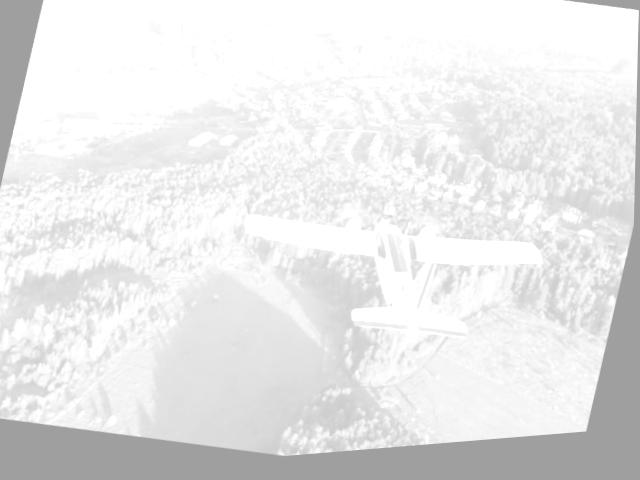hedef: (206, 165, 582, 396)
